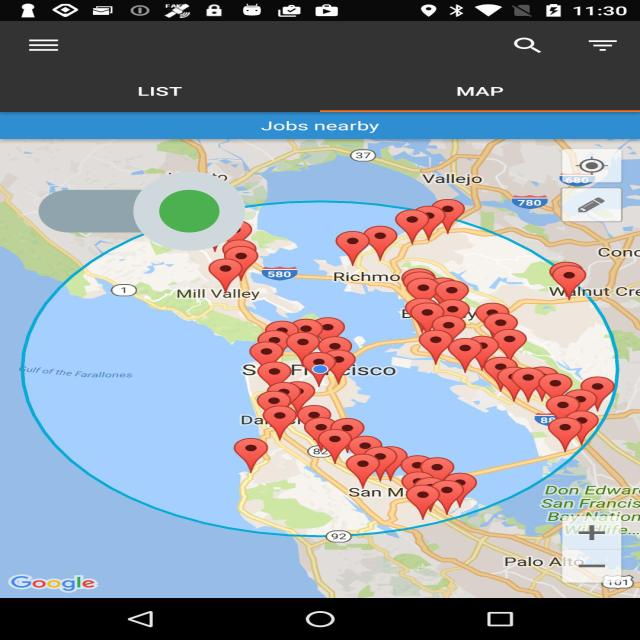social proof: (38, 138, 245, 284)
